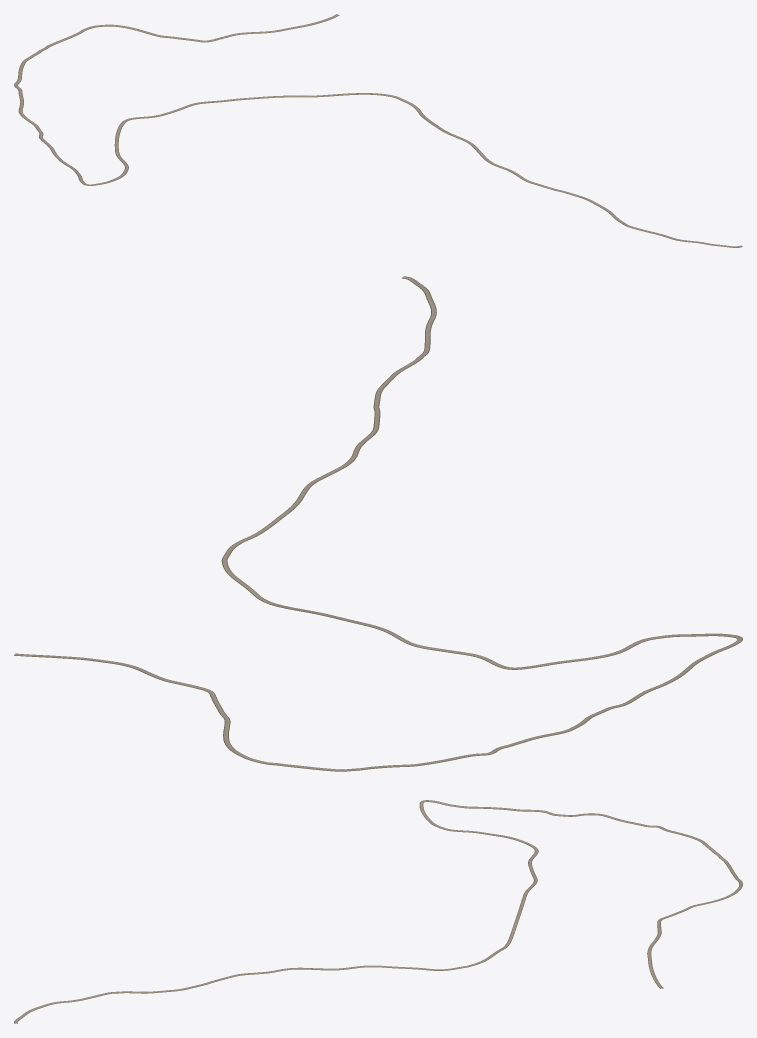
File: DirtRoadModel.gltf
3 views of the same model, one above another, from view 1: azimuth 30°, elevation 25°; view 2: azimuth 150°, elevation 25°; view 3: azimuth 270°, elevation 25° (orthographic). The views are drawn at different scales.
Visible parts, largest first — view 1: DirtRoad; view 2: DirtRoad; view 3: DirtRoad.
Part boxes in pixels (left/top/right/bottom): DirtRoad: left=14, top=14, right=742, bottom=247; DirtRoad: left=14, top=276, right=742, bottom=771; DirtRoad: left=14, top=800, right=742, bottom=1023.
Bounding box in the file's own units: 1446 × 45.94 × 2124.
Materials: 1 (1 with a texture image).
